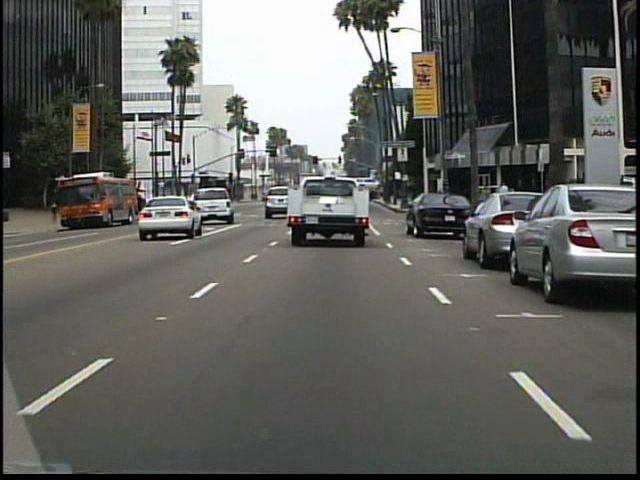person: (495, 178, 513, 218), (50, 195, 63, 227)
